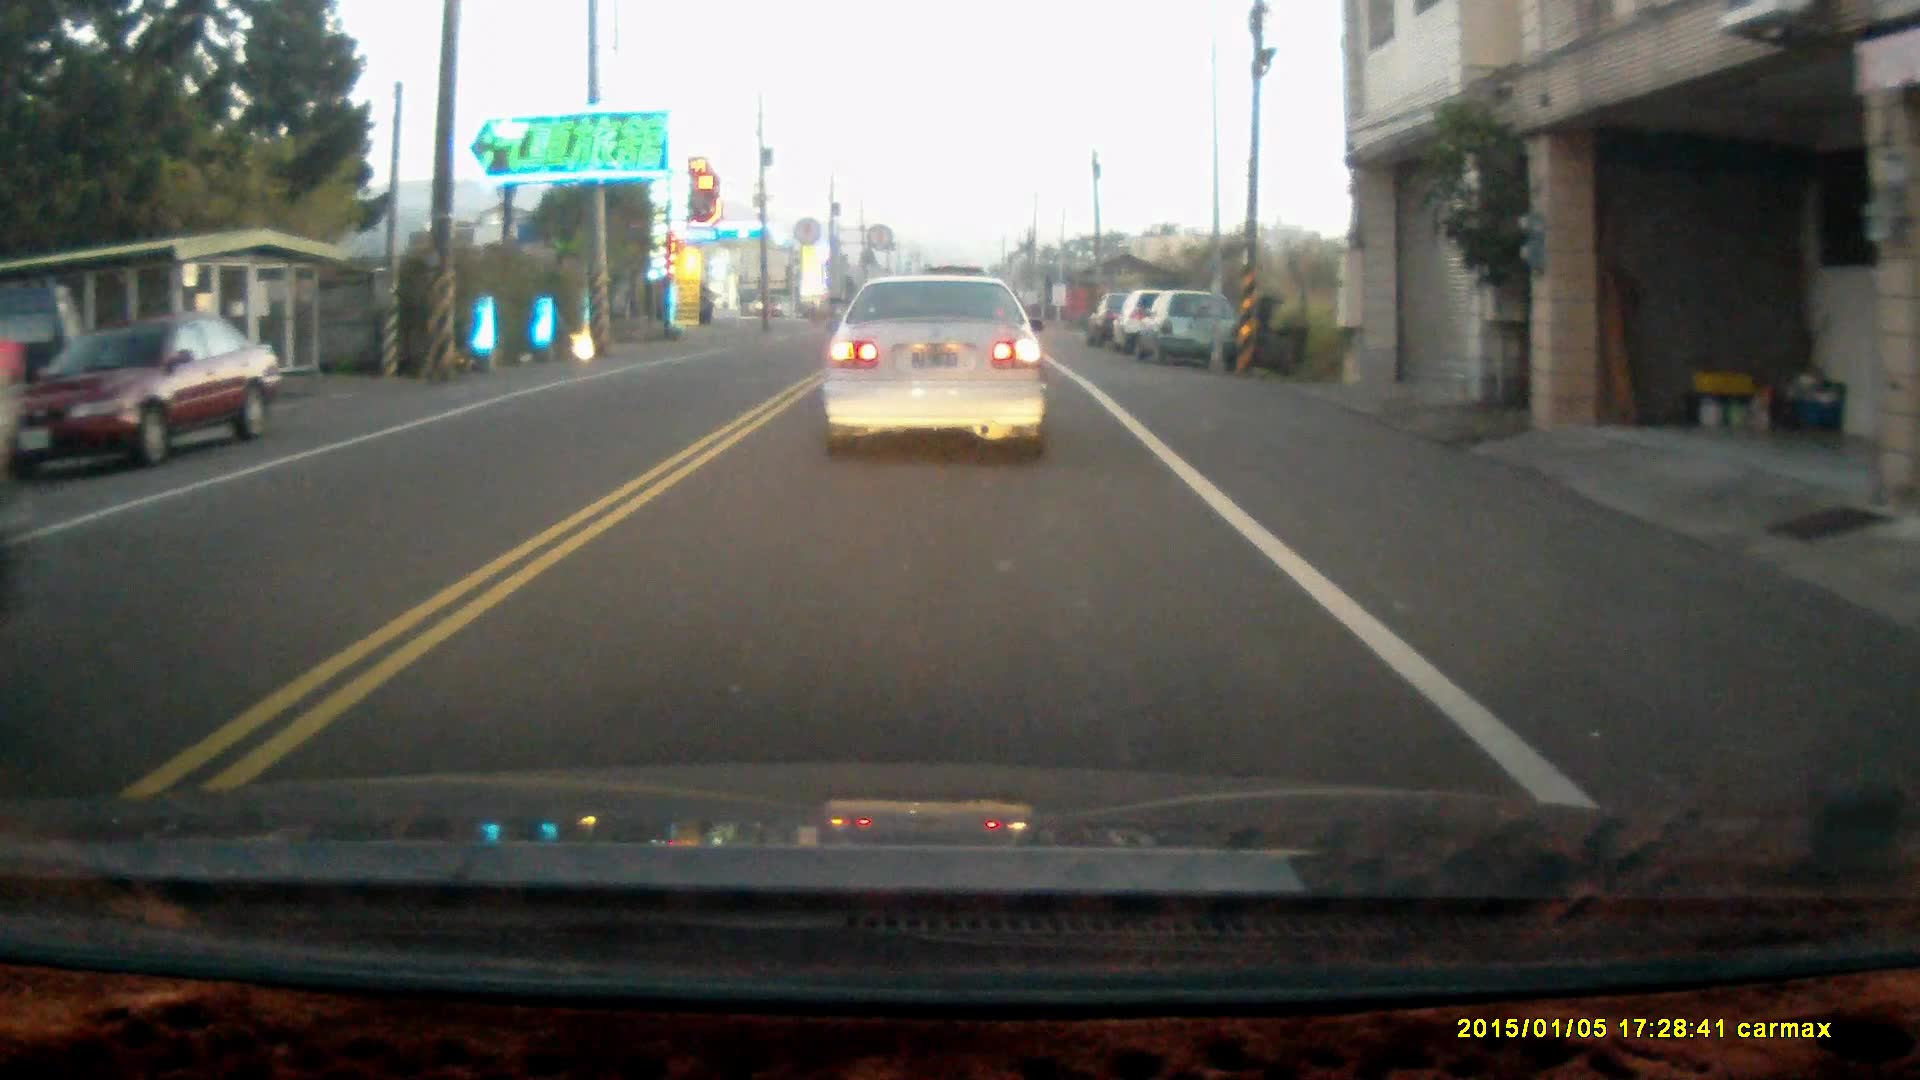vehicle: (1, 313, 287, 483), (819, 272, 1047, 462), (1134, 291, 1237, 367), (1116, 293, 1201, 357), (1087, 294, 1168, 353)
